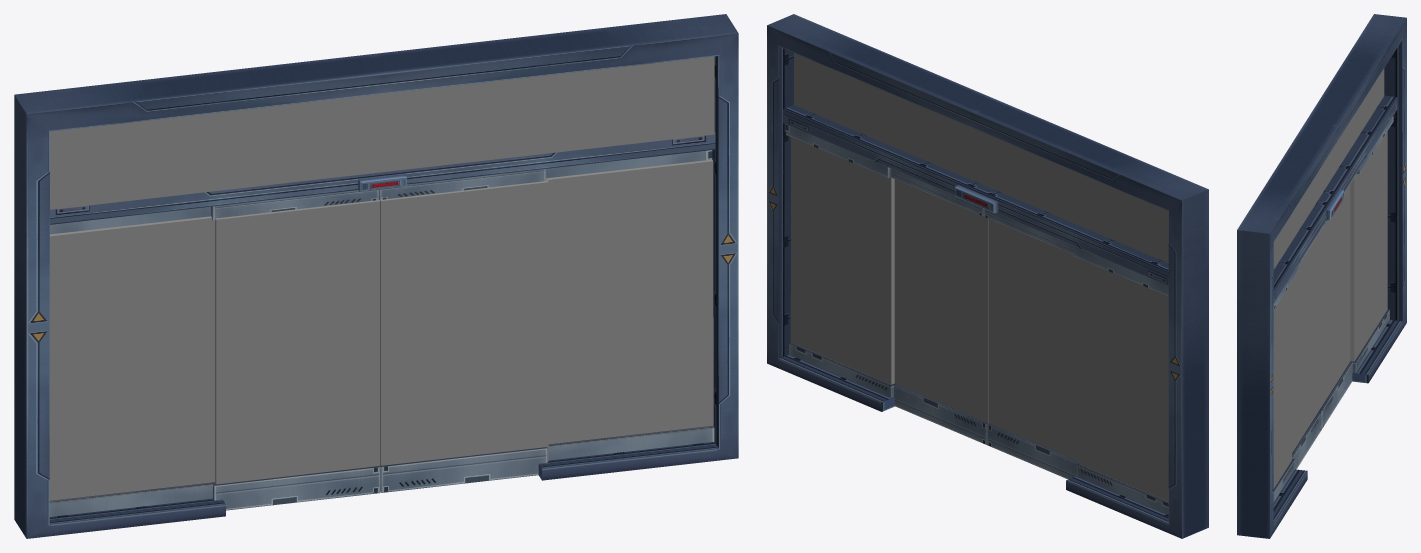
The model's file is Building_GHQ_zdm.fbx.
3 renders of one model, left to right at view 1: azimuth 30°, elevation 25°; view 2: azimuth 150°, elevation 25°; view 3: azimuth 270°, elevation 25°, orthographic. The views are drawn at different scales.
Parts seen in each view (by area): view 1: Building_GHQ_boli, Building_GHQ_zdm, Building_GHQ_zdm_boli1, Building_GHQ_zdm_boli2, Building_GHQ_zdm_blbb_1, Building_GHQ_zdm_blbb_2, Building_GHQ_zdm_blbb_4, Building_GHQ_zdm_blbb_3; view 2: Building_GHQ_boli, Building_GHQ_zdm, Building_GHQ_zdm_boli1, Building_GHQ_zdm_boli2, Building_GHQ_zdm_blbb_1, Building_GHQ_zdm_blbb_2, Building_GHQ_zdm_blbb_3, Building_GHQ_zdm_blbb_4; view 3: Building_GHQ_zdm, Building_GHQ_boli, Building_GHQ_zdm_boli2, Building_GHQ_zdm_boli1, Building_GHQ_zdm_blbb_2, Building_GHQ_zdm_blbb_1.
Part boxes in pixels (x1=…): Building_GHQ_boli: x1=49, y1=56, x2=714, y2=500; Building_GHQ_zdm: x1=14, y1=14, x2=738, y2=538; Building_GHQ_zdm_boli1: x1=380, y1=180, x2=548, y2=465; Building_GHQ_zdm_boli2: x1=215, y1=200, x2=379, y2=484; Building_GHQ_zdm_blbb_1: x1=380, y1=447, x2=547, y2=492; Building_GHQ_zdm_blbb_2: x1=212, y1=466, x2=380, y2=510; Building_GHQ_zdm_blbb_4: x1=211, y1=190, x2=378, y2=220; Building_GHQ_zdm_blbb_3: x1=379, y1=169, x2=546, y2=200; Building_GHQ_boli: x1=790, y1=53, x2=1168, y2=501; Building_GHQ_zdm: x1=767, y1=14, x2=1208, y2=538; Building_GHQ_zdm_boli1: x1=894, y1=179, x2=988, y2=422; Building_GHQ_zdm_boli2: x1=989, y1=219, x2=1079, y2=461; Building_GHQ_zdm_blbb_1: x1=894, y1=384, x2=988, y2=444; Building_GHQ_zdm_blbb_2: x1=987, y1=423, x2=1079, y2=479; Building_GHQ_zdm_blbb_3: x1=890, y1=168, x2=983, y2=216; Building_GHQ_zdm_blbb_4: x1=983, y1=208, x2=1073, y2=254; Building_GHQ_zdm: x1=1237, y1=14, x2=1406, y2=538; Building_GHQ_boli: x1=1273, y1=68, x2=1387, y2=488; Building_GHQ_zdm_boli2: x1=1319, y1=185, x2=1350, y2=409; Building_GHQ_zdm_boli1: x1=1292, y1=233, x2=1319, y2=452; Building_GHQ_zdm_blbb_2: x1=1319, y1=361, x2=1352, y2=428; Building_GHQ_zdm_blbb_1: x1=1292, y1=410, x2=1321, y2=469.
Bounding box in the file's own units: 312 × 202 × 102.
